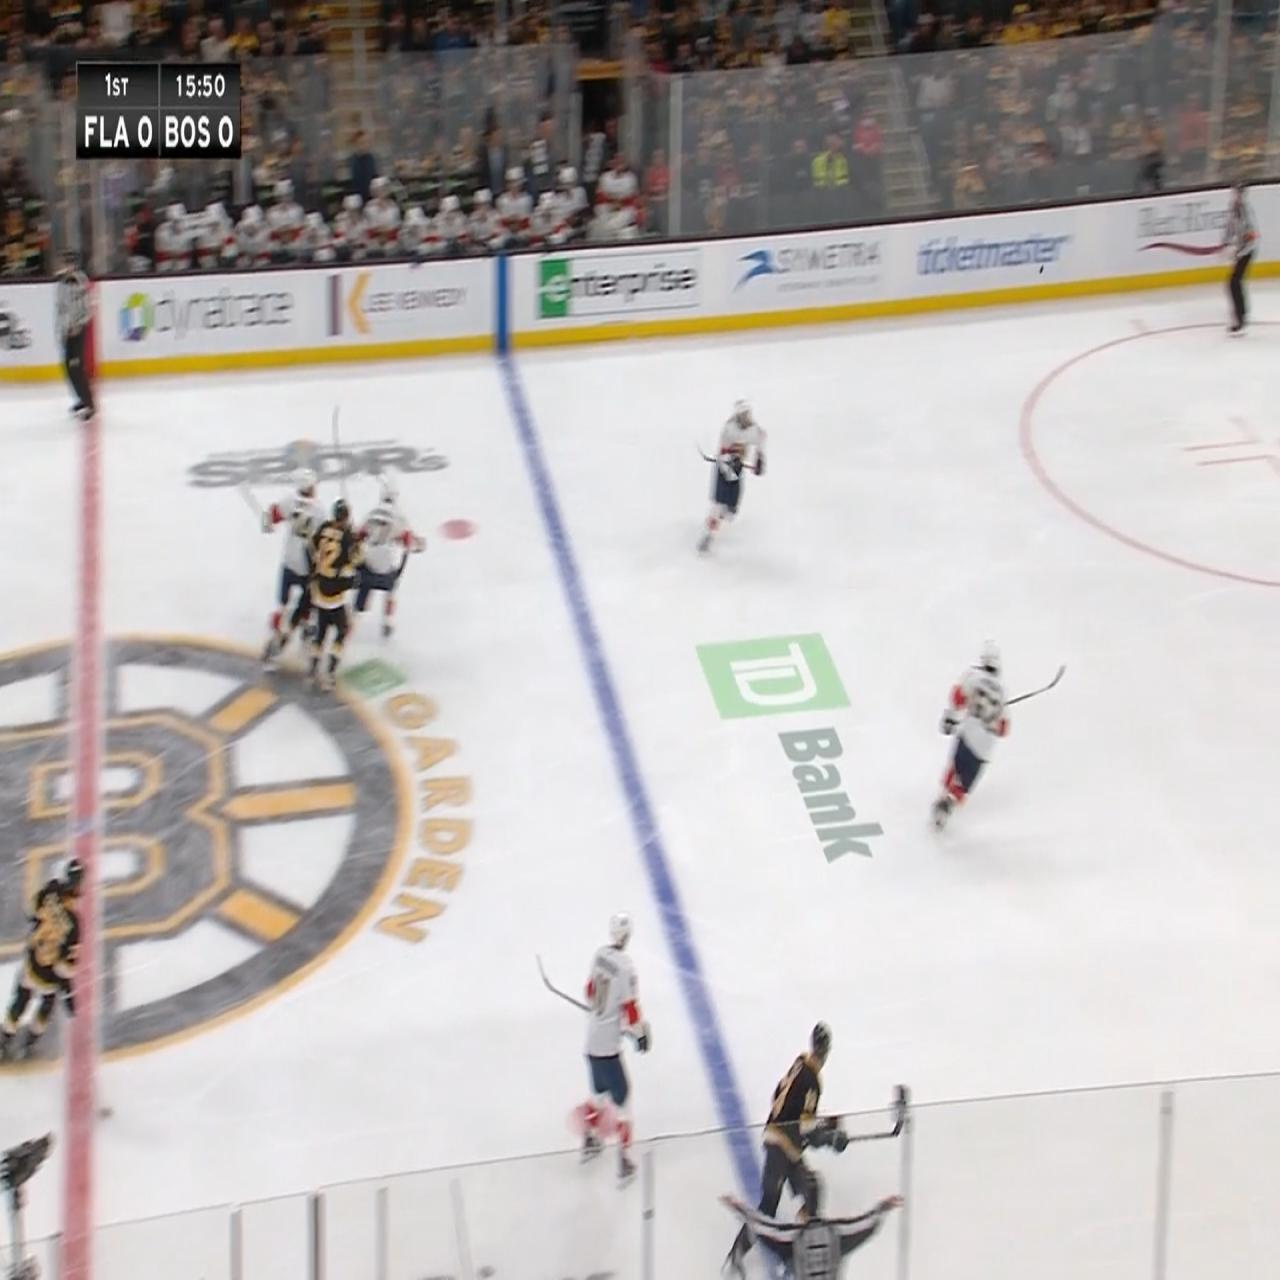Ad: (690, 629, 888, 876), (184, 416, 452, 510), (113, 282, 306, 358), (324, 258, 475, 343), (536, 250, 704, 322), (737, 232, 893, 311), (915, 220, 1074, 294), (1132, 199, 1257, 270)
